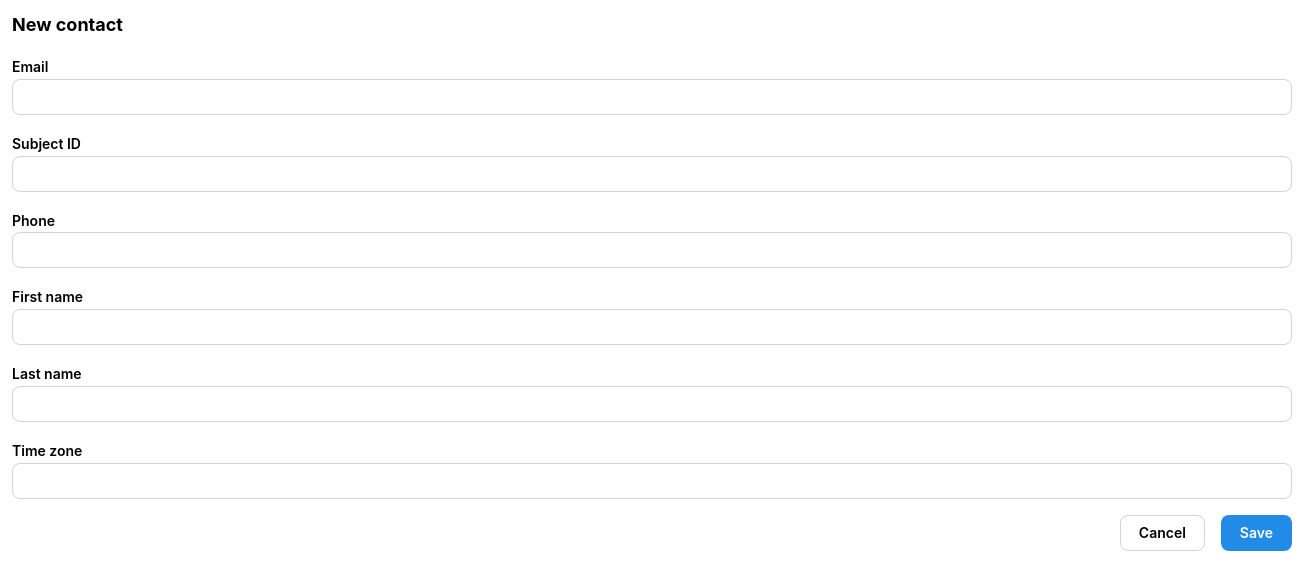
Scenario: creating a contact sends only the filled keys, refreshes the list and opens the edit page
This screenshot has width=1304, height=568.
Type "ada@example.com" into the field labelled "Email".
click(652, 97); type("ada@example.com")  # box [12, 79, 1292, 115]
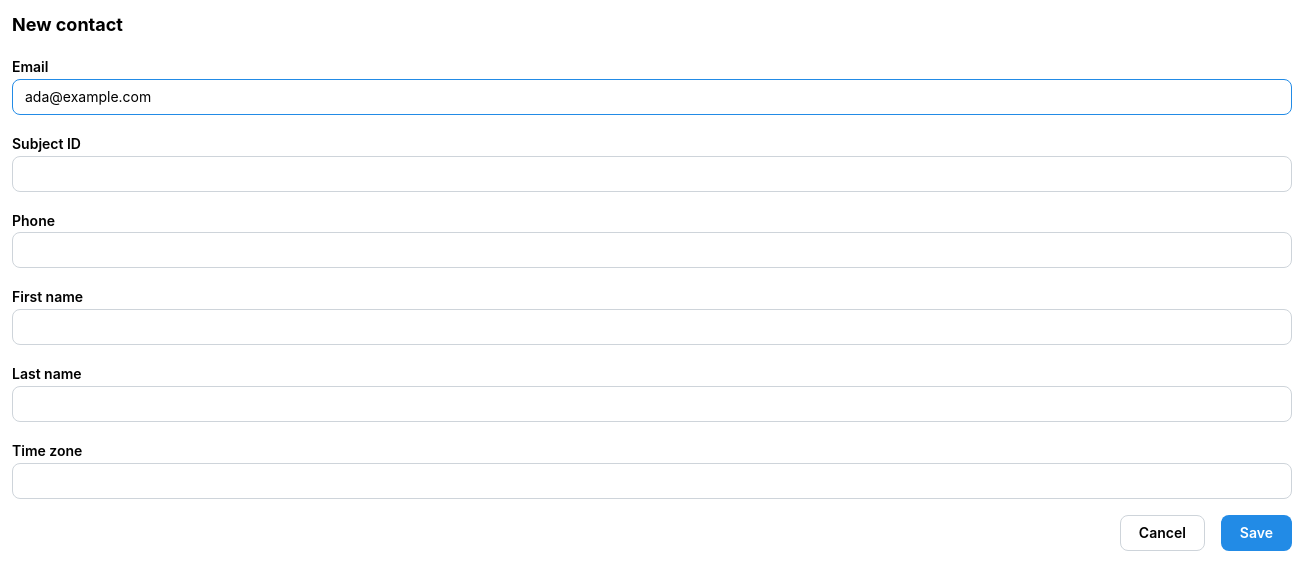
Type "Ada" into the field labelled "First name".
click(652, 327); type("Ada")  # box [12, 309, 1292, 345]
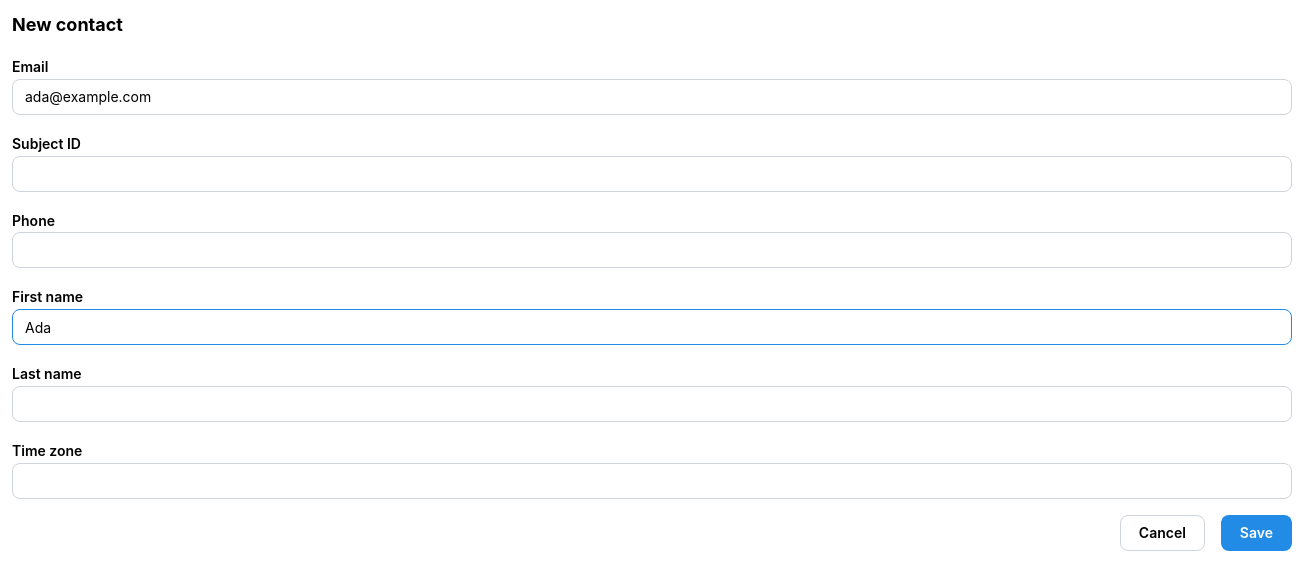
Click the button "Save".
click(1256, 533)  # box [1221, 515, 1292, 551]
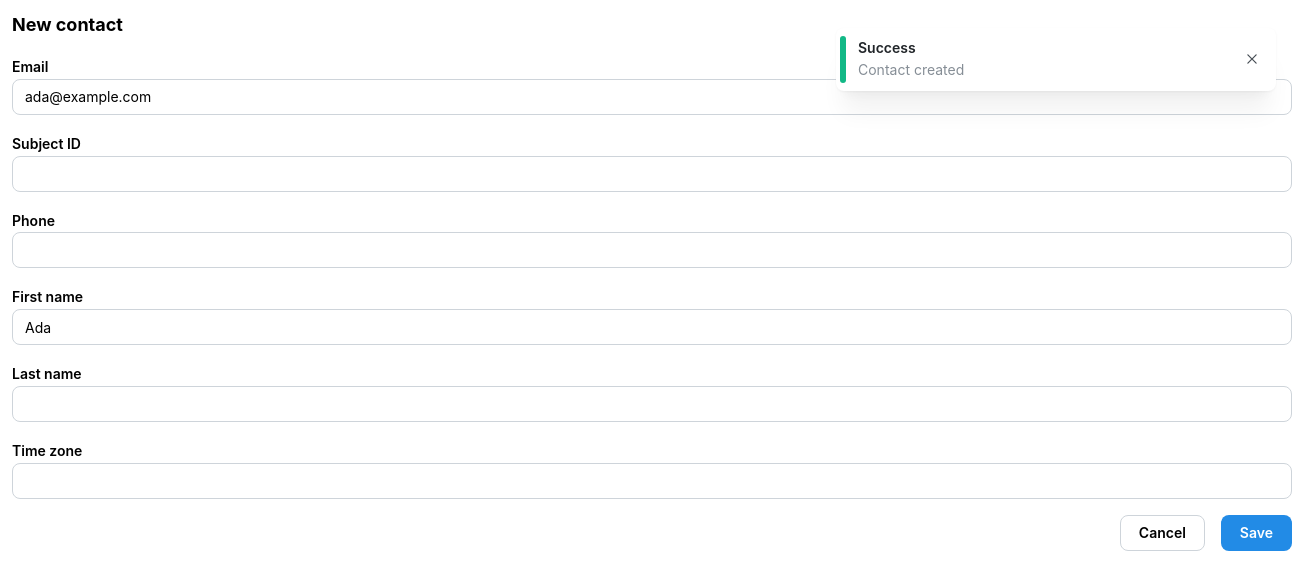
expect the text "Contact created" is shown: met, box [858, 61, 964, 78]
